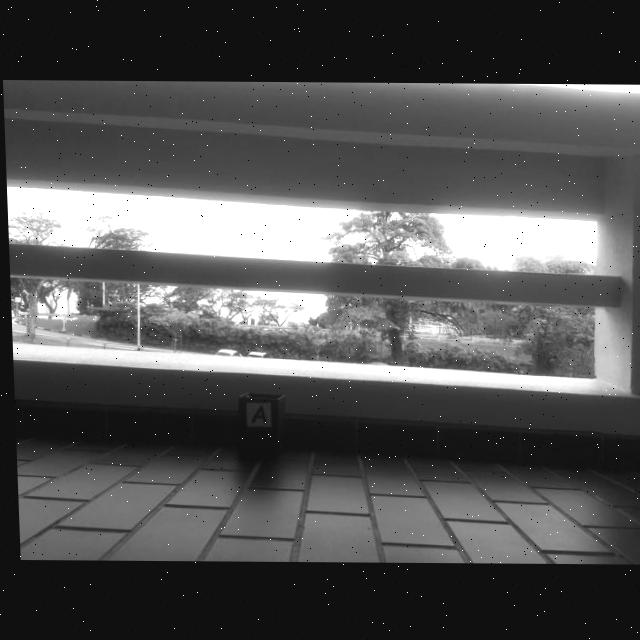A: (247, 405, 263, 423)
